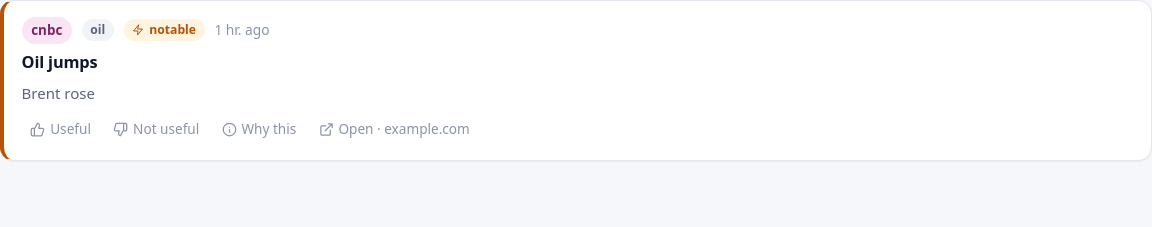
FeedCard › links out safely and explains why on demand
Check: the text "Matched your source" is not shown
Step 1. Click the button "Why this" → (259,129), box [213,114,305,144]
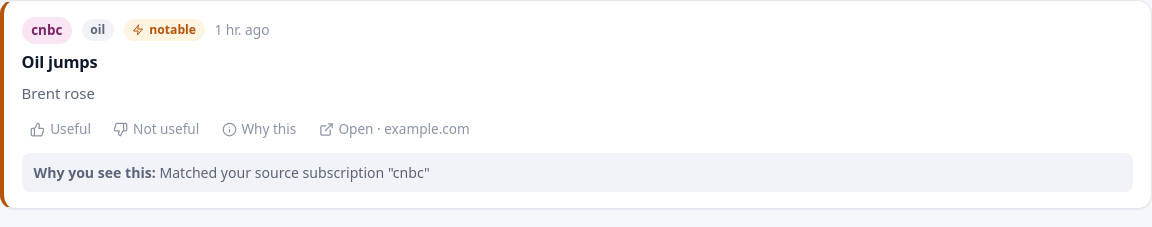
Check: the text "Why you see this: Matched your source subscription \"cnbc\"" is shown, box [22,153,1133,192]
